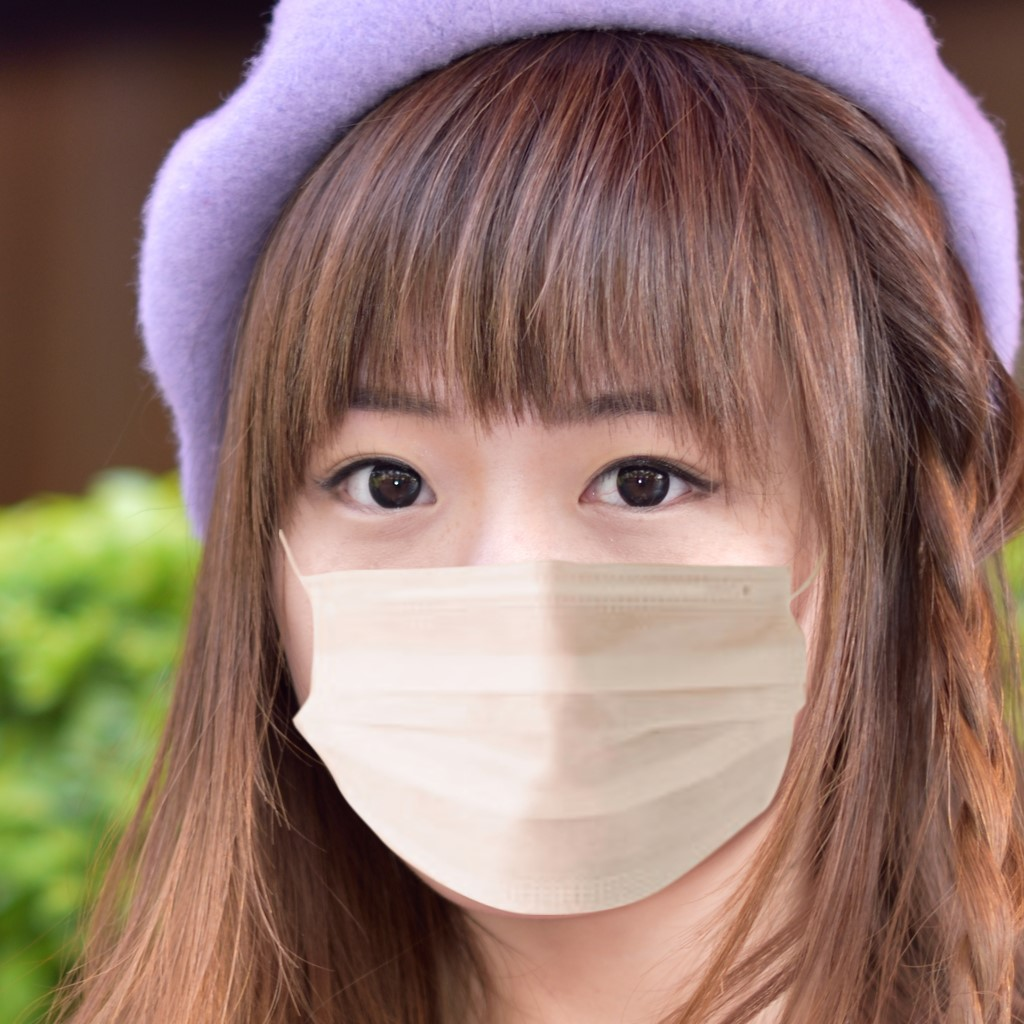con_mascara: (201, 194, 880, 929)
